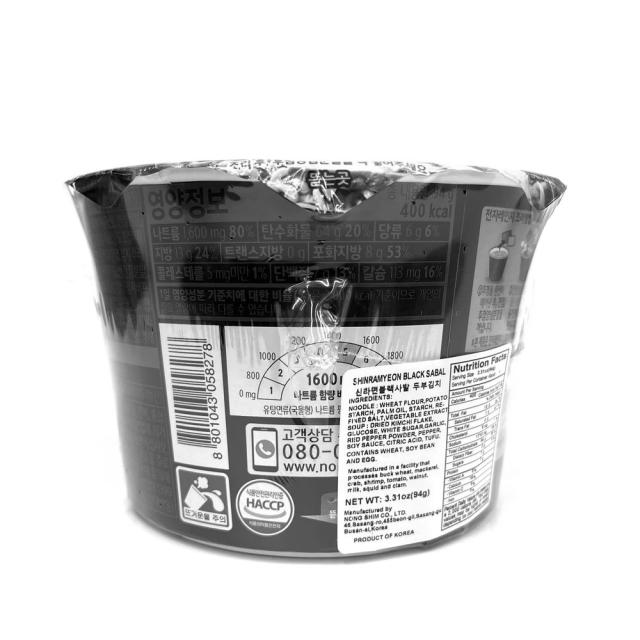Nutrition Label: (142, 177, 464, 333)
